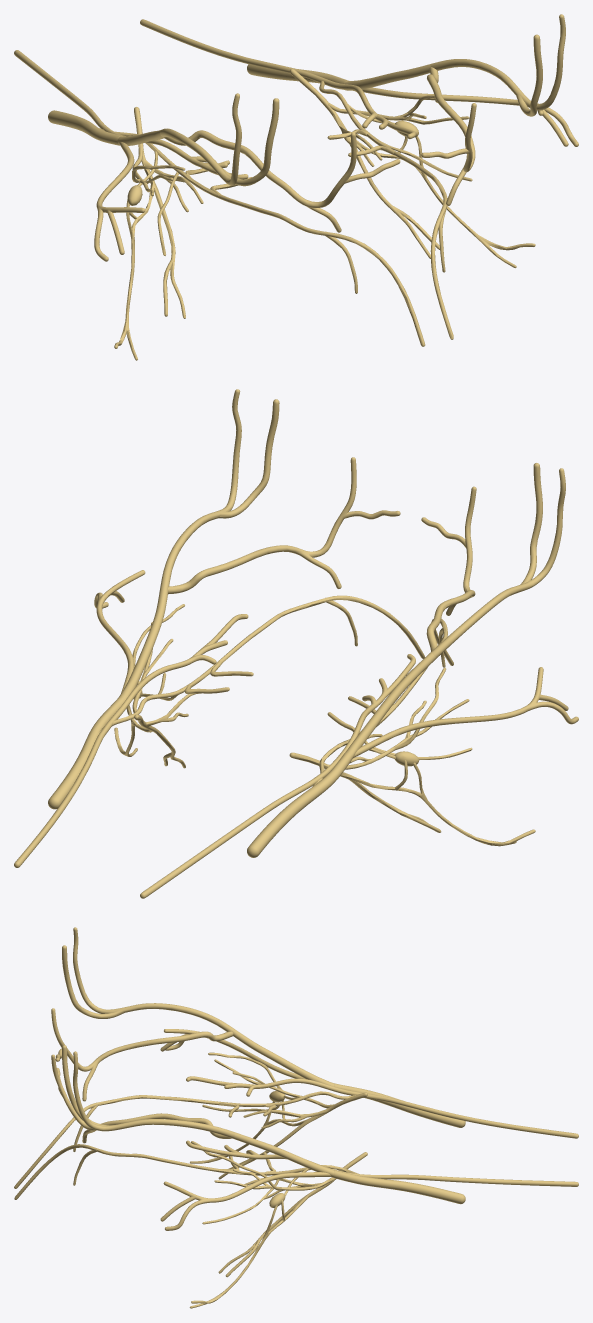
File: cranial.glb
The picture shows the model from 3 angles, top to bottom: view 1: azimuth 30°, elevation 25°; view 2: azimuth 150°, elevation 25°; view 3: azimuth 270°, elevation 25°; orthographic projection. The views are drawn at different scales.
Parts seen in each view (by area): view 1: bp3d_FMA52577_FJ1293, bp3d_FMA52576_FJ1344, bp3d_FMA52657_FJ1325, bp3d_FMA52643_FJ1377, bp3d_FMA52656_FJ1376, bp3d_FMA50882_FJ1330, bp3d_FMA52669_FJ1361, bp3d_FMA52644_FJ1326, bp3d_FMA52670_FJ1310, bp3d_FMA52630_FJ1300, bp3d_FMA50881_FJ1381, bp3d_FMA52629_FJ1351 (+5 smaller); view 2: bp3d_FMA52656_FJ1376, bp3d_FMA52657_FJ1325, bp3d_FMA52644_FJ1326, bp3d_FMA50881_FJ1381, bp3d_FMA50882_FJ1330, bp3d_FMA52576_FJ1344, bp3d_FMA52629_FJ1351, bp3d_FMA52670_FJ1310, bp3d_FMA52622_FJ1363, bp3d_FMA52643_FJ1377, bp3d_FMA52623_FJ1312, bp3d_FMA52639_FJ1341 (+5 smaller); view 3: bp3d_FMA50881_FJ1381, bp3d_FMA52656_FJ1376, bp3d_FMA50882_FJ1330, bp3d_FMA52657_FJ1325, bp3d_FMA52577_FJ1293, bp3d_FMA52643_FJ1377, bp3d_FMA52576_FJ1344, bp3d_FMA52669_FJ1361, bp3d_FMA52623_FJ1312, bp3d_FMA52630_FJ1300, bp3d_FMA52670_FJ1310, bp3d_FMA52644_FJ1326 (+6 smaller).
Part boxes in pixels (left/top/right/bottom): bp3d_FMA52577_FJ1293: left=289, top=69, right=535, bottom=268; bp3d_FMA52576_FJ1344: left=114, top=107, right=203, bottom=360; bp3d_FMA52657_FJ1325: left=430, top=14, right=565, bottom=116; bp3d_FMA52643_FJ1377: left=163, top=130, right=400, bottom=232; bp3d_FMA52656_FJ1376: left=160, top=93, right=279, bottom=186; bp3d_FMA50882_FJ1330: left=140, top=19, right=415, bottom=139; bp3d_FMA52669_FJ1361: left=99, top=128, right=425, bottom=346; bp3d_FMA52644_FJ1326: left=421, top=67, right=476, bottom=205; bp3d_FMA52670_FJ1310: left=319, top=80, right=453, bottom=339; bp3d_FMA52630_FJ1300: left=362, top=87, right=578, bottom=146; bp3d_FMA50881_FJ1381: left=14, top=50, right=248, bottom=179; bp3d_FMA52629_FJ1351: left=94, top=142, right=145, bottom=261; bp3d_FMA52656_FJ1376: left=431, top=463, right=565, bottom=658; bp3d_FMA52657_FJ1325: left=160, top=389, right=279, bottom=588; bp3d_FMA52644_FJ1326: left=168, top=457, right=400, bottom=594; bp3d_FMA50881_FJ1381: left=140, top=654, right=415, bottom=898; bp3d_FMA50882_FJ1330: left=14, top=614, right=248, bottom=867; bp3d_FMA52576_FJ1344: left=289, top=734, right=535, bottom=846; bp3d_FMA52629_FJ1351: left=353, top=667, right=578, bottom=757; bp3d_FMA52670_FJ1310: left=98, top=595, right=424, bottom=734; bp3d_FMA52622_FJ1363: left=247, top=752, right=352, bottom=857; bp3d_FMA52643_FJ1377: left=421, top=486, right=476, bottom=651; bp3d_FMA52623_FJ1312: left=48, top=697, right=124, bottom=809; bp3d_FMA52639_FJ1341: left=345, top=652, right=436, bottom=758; bp3d_FMA50881_FJ1381: left=186, top=1076, right=578, bottom=1138; bp3d_FMA52656_FJ1376: left=62, top=927, right=234, bottom=1031; bp3d_FMA50882_FJ1330: left=186, top=1140, right=578, bottom=1186; bp3d_FMA52657_FJ1325: left=62, top=1045, right=235, bottom=1138; bp3d_FMA52577_FJ1293: left=189, top=1152, right=367, bottom=1308; bp3d_FMA52643_FJ1377: left=51, top=1008, right=233, bottom=1101; bp3d_FMA52576_FJ1344: left=190, top=1092, right=367, bottom=1179; bp3d_FMA52669_FJ1361: left=14, top=1091, right=363, bottom=1188; bp3d_FMA52623_FJ1312: left=332, top=1170, right=465, bottom=1204; bp3d_FMA52630_FJ1300: left=160, top=1172, right=331, bottom=1230; bp3d_FMA52670_FJ1310: left=14, top=1144, right=358, bottom=1199; bp3d_FMA52644_FJ1326: left=51, top=1054, right=231, bottom=1143.
Bounding box in the file's own units: 0.087 × 0.0548 × 0.1138.
